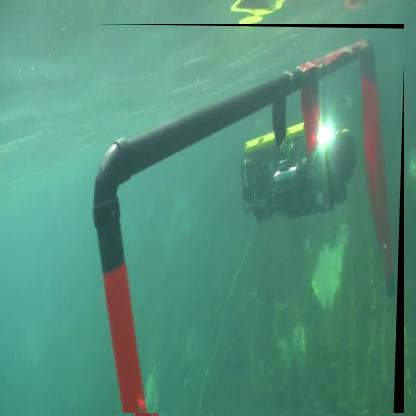gate: (93, 25, 406, 415)
